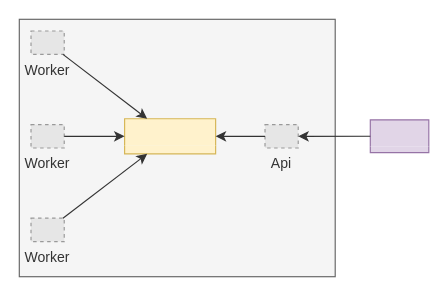
Some shapes in this 448 by 296 pixel diagram are drawn without their labels. Grey dashed boxes stand in for pictures. Each missing label, with the box of its shape:
Client: (369, 119, 429, 153)
Order queue: (123, 118, 216, 154)
